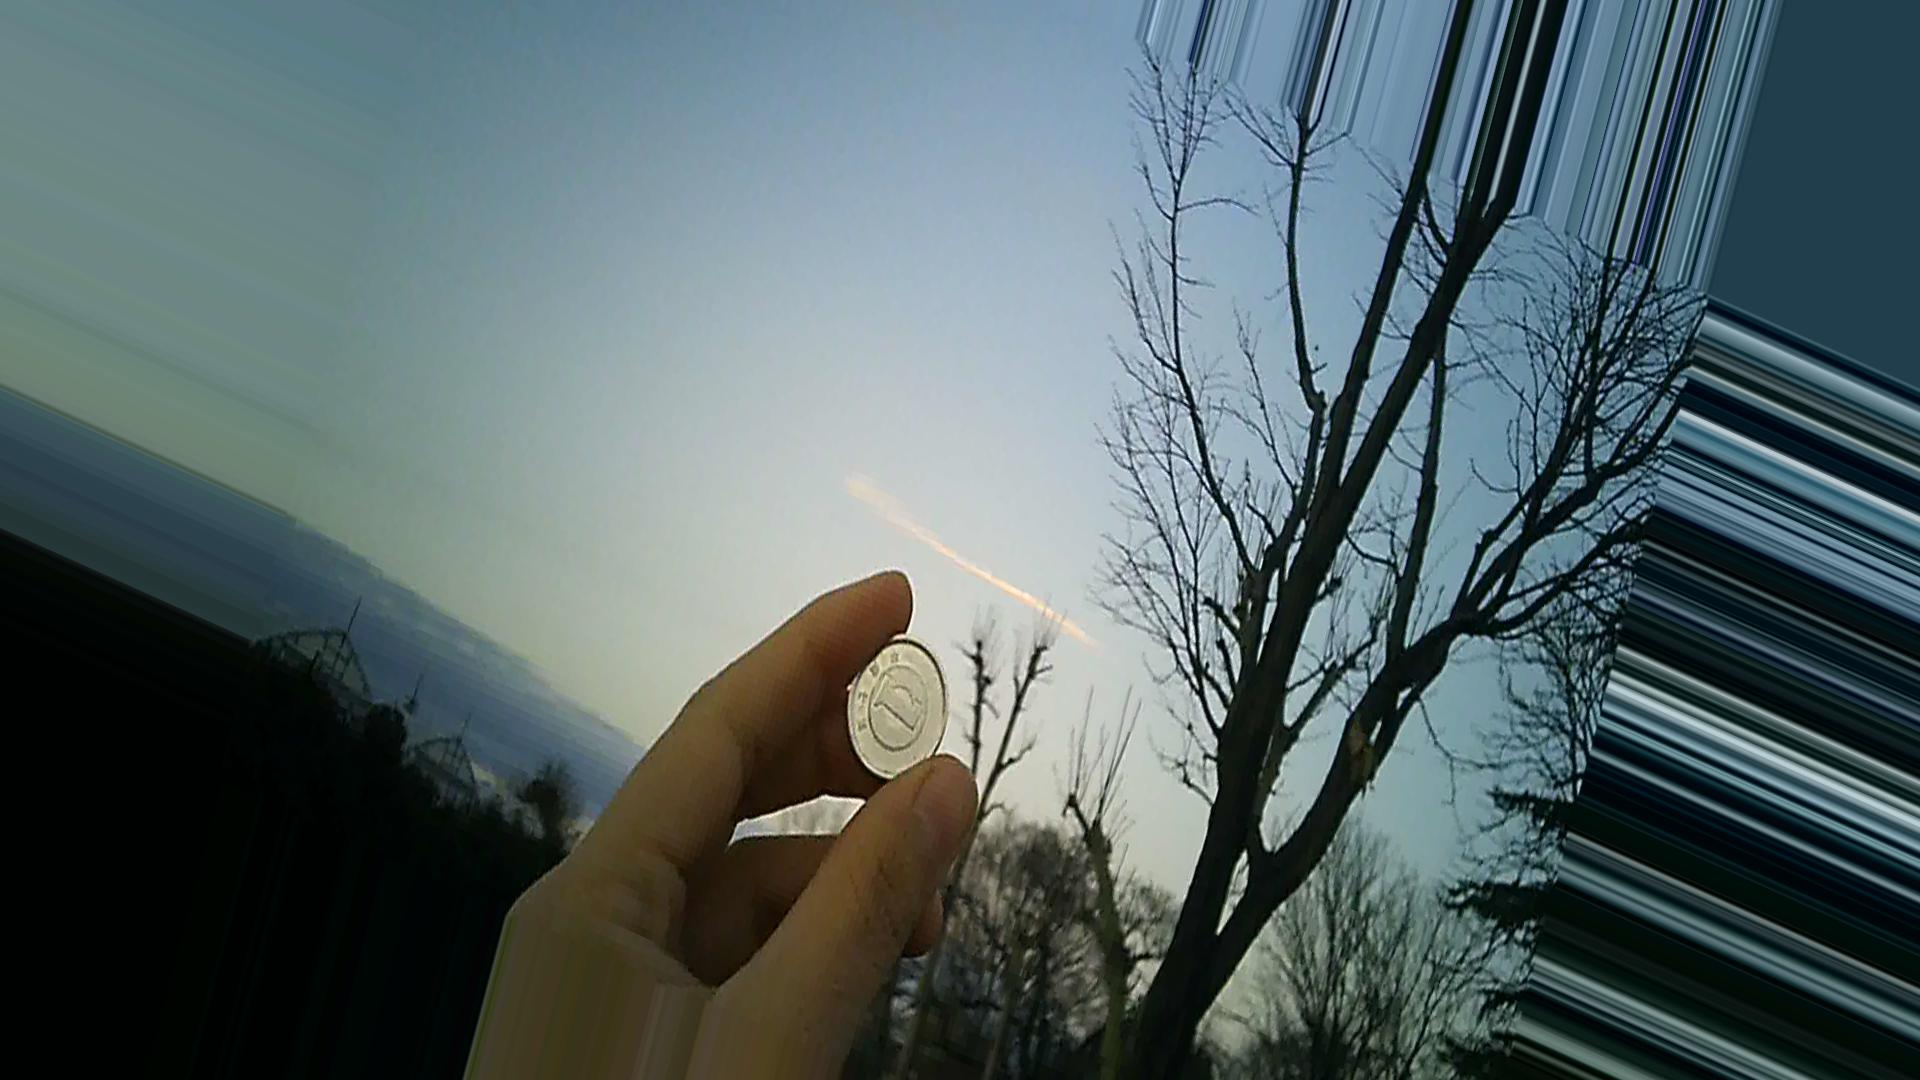1 Yen: (833, 626, 942, 785)
